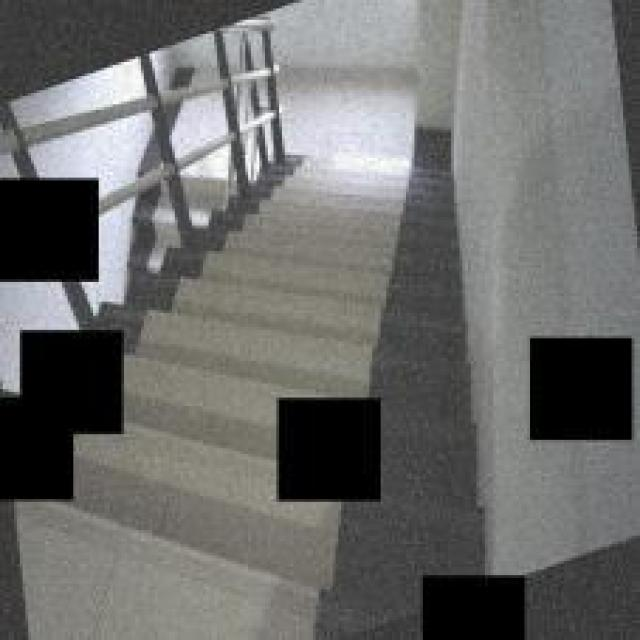downstair: (246, 133, 497, 393)
